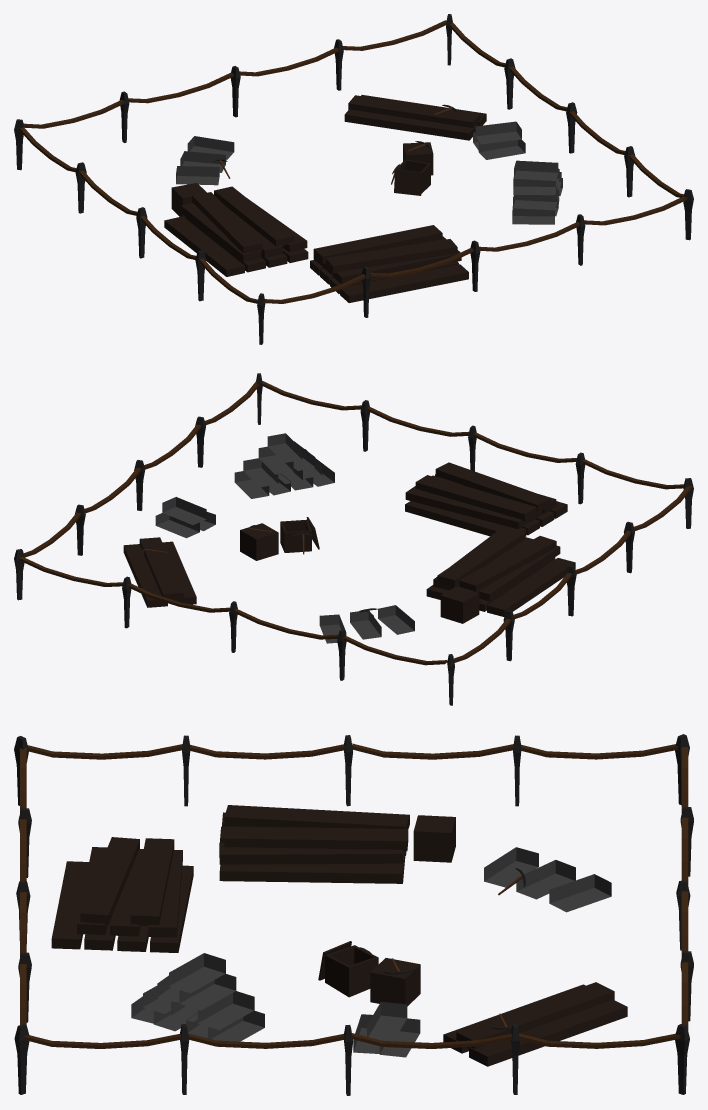
Rendered from construction_large.obj.
3 views of the same model, one above another, from view 1: azimuth 30°, elevation 25°; view 2: azimuth 150°, elevation 25°; view 3: azimuth 270°, elevation 25° (orthographic). The views are drawn at different scales.
Parts seen in each view (by area): view 1: Construction_Site.005_ResourceHut_ResourceHut_PointyTower_Cylind; view 2: Construction_Site.005_ResourceHut_ResourceHut_PointyTower_Cylind; view 3: Construction_Site.005_ResourceHut_ResourceHut_PointyTower_Cylind.
Part boxes in pixels (<box>): Construction_Site.005_ResourceHut_ResourceHut_PointyTower_Cylind: <box>14,14,693,344</box>; Construction_Site.005_ResourceHut_ResourceHut_PointyTower_Cylind: <box>14,373,693,705</box>; Construction_Site.005_ResourceHut_ResourceHut_PointyTower_Cylind: <box>14,734,693,1095</box>.
Bounding box in the file's own units: 4.3 × 0.4594 × 4.16.
